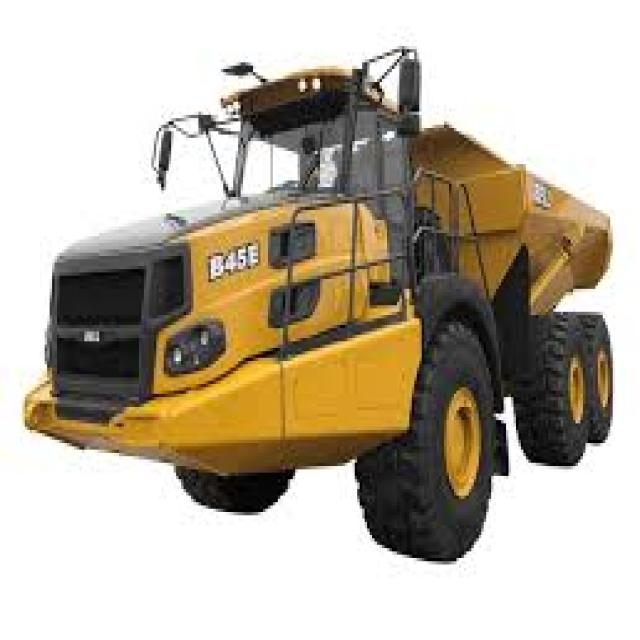dump_truck: (20, 43, 630, 571)
